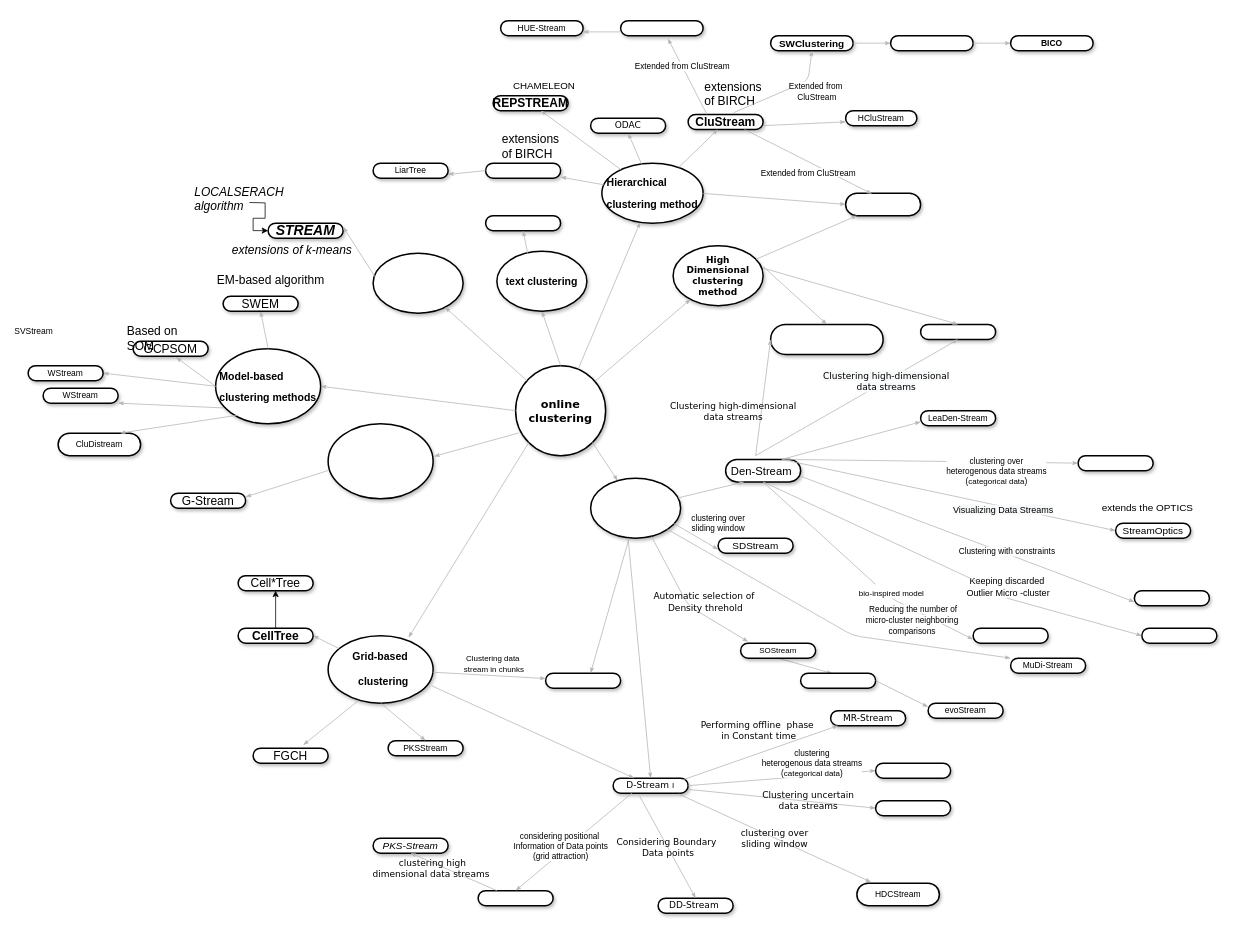
The diagram is 1235 pixels wide and 945 high, and some of its shapes have lost their labels. The shapes that lost their labels are listed below. From the top down, each one's centre as x and y in pixels, then its label:
At pixel 662 28: "E-Stream".
At pixel 932 44: "StreamKM ++".
At pixel 524 171: "ClusTree".
At pixel 524 224: "textClust".
At pixel 884 205: "HPSTREAM".
At pixel 418 284: "Partition-based online clustering".
At pixel 827 340: "PreDeCon Stream".
At pixel 958 332: "HDDStream".
At pixel 381 462: "Graph-based clustering methods".
At pixel 1116 464: "HDenStream".
At pixel 636 509: "Density based online clustering".
At pixel 1172 598: "C-DenStream".
At pixel 1011 636: "FlockStream".
At pixel 1180 636: "R-DenStream".
At pixel 584 681: "DUCstream".
At pixel 838 681: "DBSTREAM".
At pixel 914 771: "ExCC".
At pixel 914 808: "DCUStream".
At pixel 516 898: "D-Stream II".
